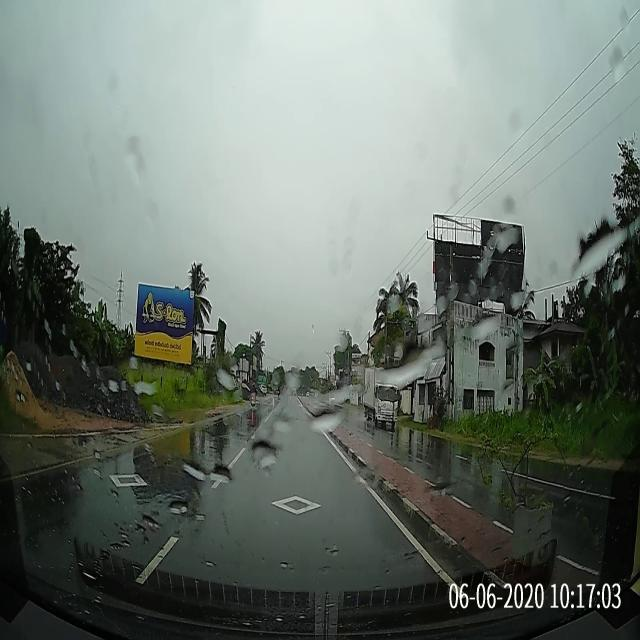diamond: (158, 463, 429, 556)
